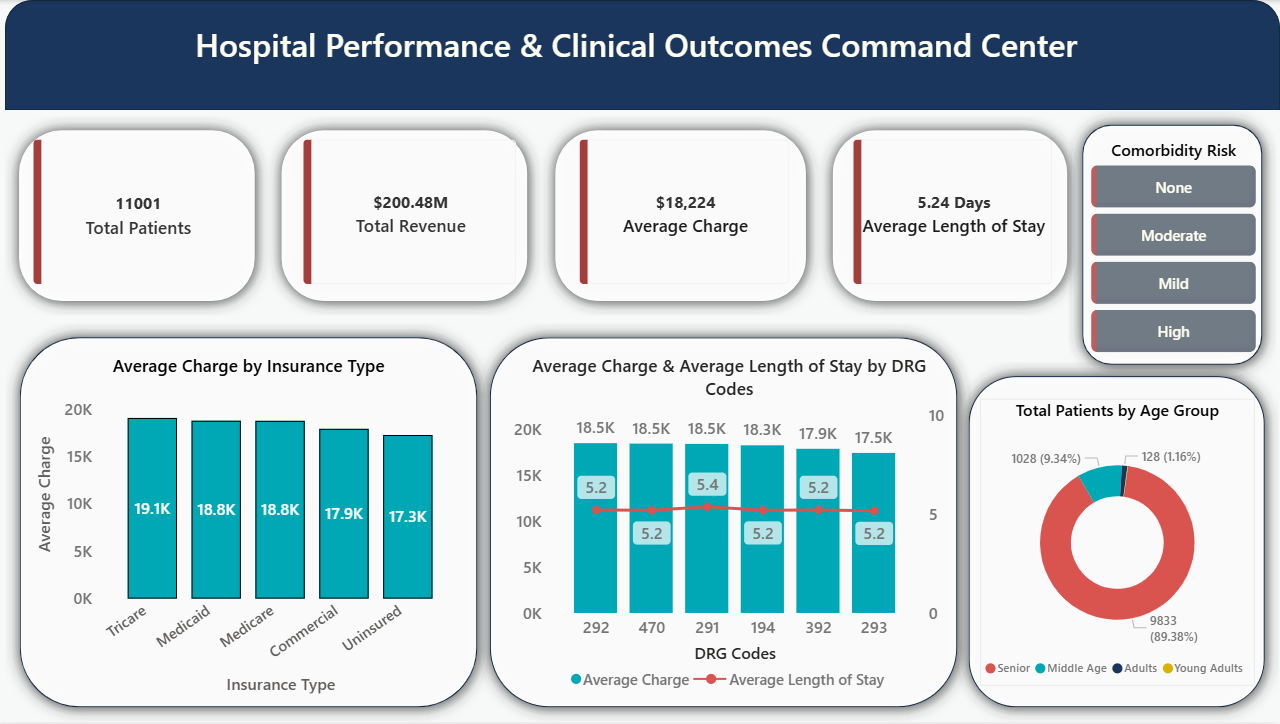

This screenshot's page, from the dashboard's own definition file:
{"tool":"powerbi","page":{"name":"Financial & Operational Overview","canvas":[1280,720],"ordinal":0},"visuals":[{"type":"shape","box":[820.7,115.8,261.5,198],"z":0},{"type":"shape","box":[543.8,115.8,277.7,198],"z":1000},{"type":"shape","box":[955.2,359.9,325,359.9],"z":2000},{"type":"shape","box":[478.2,321.3,495.7,398.5],"z":3000},{"type":"shape","box":[10,321.3,485.7,398.5],"z":4000},{"type":"shape","box":[10,115.8,262.8,198],"z":5000},{"type":"shape","box":[10,0,1270.3,109.6],"z":6000},{"type":"textbox","box":[174.3,17.8,929,67.2],"z":7000},{"type":"cardVisual","fields":{"Data":["vw_fact_outcomes.Average Charge"]},"box":[581.6,138.2,211.7,147],"z":8000},{"type":"cardVisual","fields":{"Data":["vw_fact_outcomes.Average Length of Stay"]},"box":[854.3,138.2,200.5,147],"z":9000},{"type":"cardVisual","fields":{"Data":["vw_fact_outcomes.total_patients"]},"box":[37.4,138.2,208,147],"z":10000},{"type":"columnChart","title":"Average Charge by Insurance Type","fields":{"Category":["vw_dim_patients.insurance_type"],"Y":["vw_fact_outcomes.Average Charge"]},"box":[37.4,352.4,430.9,343.7],"z":11000},{"type":"donutChart","fields":{"Category":["vw_dim_patients.age_group"],"Y":["vw_fact_outcomes.Total Admitted Patients"]},"box":[981.4,397.3,274,286.4],"z":12000},{"type":"shape","box":[1068.5,109.6,209.2,269],"z":13000},{"type":"listSlicer","fields":{"Values":["vw_dim_patients.risk_severity"]},"box":[1092.2,138.2,164.4,214.2],"z":14000},{"type":"lineStackedColumnComboChart","title":"Average Charge & Average Length of Stay by DRG Codes","fields":{"Category":["vw_fact_outcomes.primary_drg"],"Y":["vw_fact_outcomes.Average Charge"],"Y2":["vw_fact_outcomes.Average Length of Stay_chart"]},"box":[511.9,352.4,439.6,343.7],"z":15000},{"type":"shape","box":[271.9,115.8,272.7,198],"z":16000},{"type":"cardVisual","fields":{"Data":["vw_fact_outcomes.Total Revenue"]},"box":[306.4,138.2,214.2,147],"z":17000}]}

Visuals, with their boxes in screenshot pixels (x1, y1, x2, y2), scaled from the page's 1280x720 canvas onto the 1280x724 screenshot:
shape: box(821, 116, 1082, 316)
shape: box(544, 116, 822, 316)
shape: box(955, 362, 1279, 723)
shape: box(478, 323, 974, 723)
shape: box(10, 323, 496, 723)
shape: box(10, 116, 273, 316)
shape: box(10, 0, 1279, 110)
textbox: box(174, 18, 1103, 85)
cardVisual - vw_fact_outcomes.Average Charge: box(582, 139, 793, 287)
cardVisual - vw_fact_outcomes.Average Length of Stay: box(854, 139, 1055, 287)
cardVisual - vw_fact_outcomes.total_patients: box(37, 139, 245, 287)
"Average Charge by Insurance Type" columnChart: box(37, 354, 468, 700)
donutChart - vw_dim_patients.age_group x vw_fact_outcomes.Total Admitted Patients: box(981, 400, 1255, 687)
shape: box(1068, 110, 1278, 381)
listSlicer - vw_dim_patients.risk_severity: box(1092, 139, 1257, 354)
"Average Charge & Average Length of Stay by DRG Codes" lineStackedColumnComboChart: box(512, 354, 952, 700)
shape: box(272, 116, 545, 316)
cardVisual - vw_fact_outcomes.Total Revenue: box(306, 139, 521, 287)
